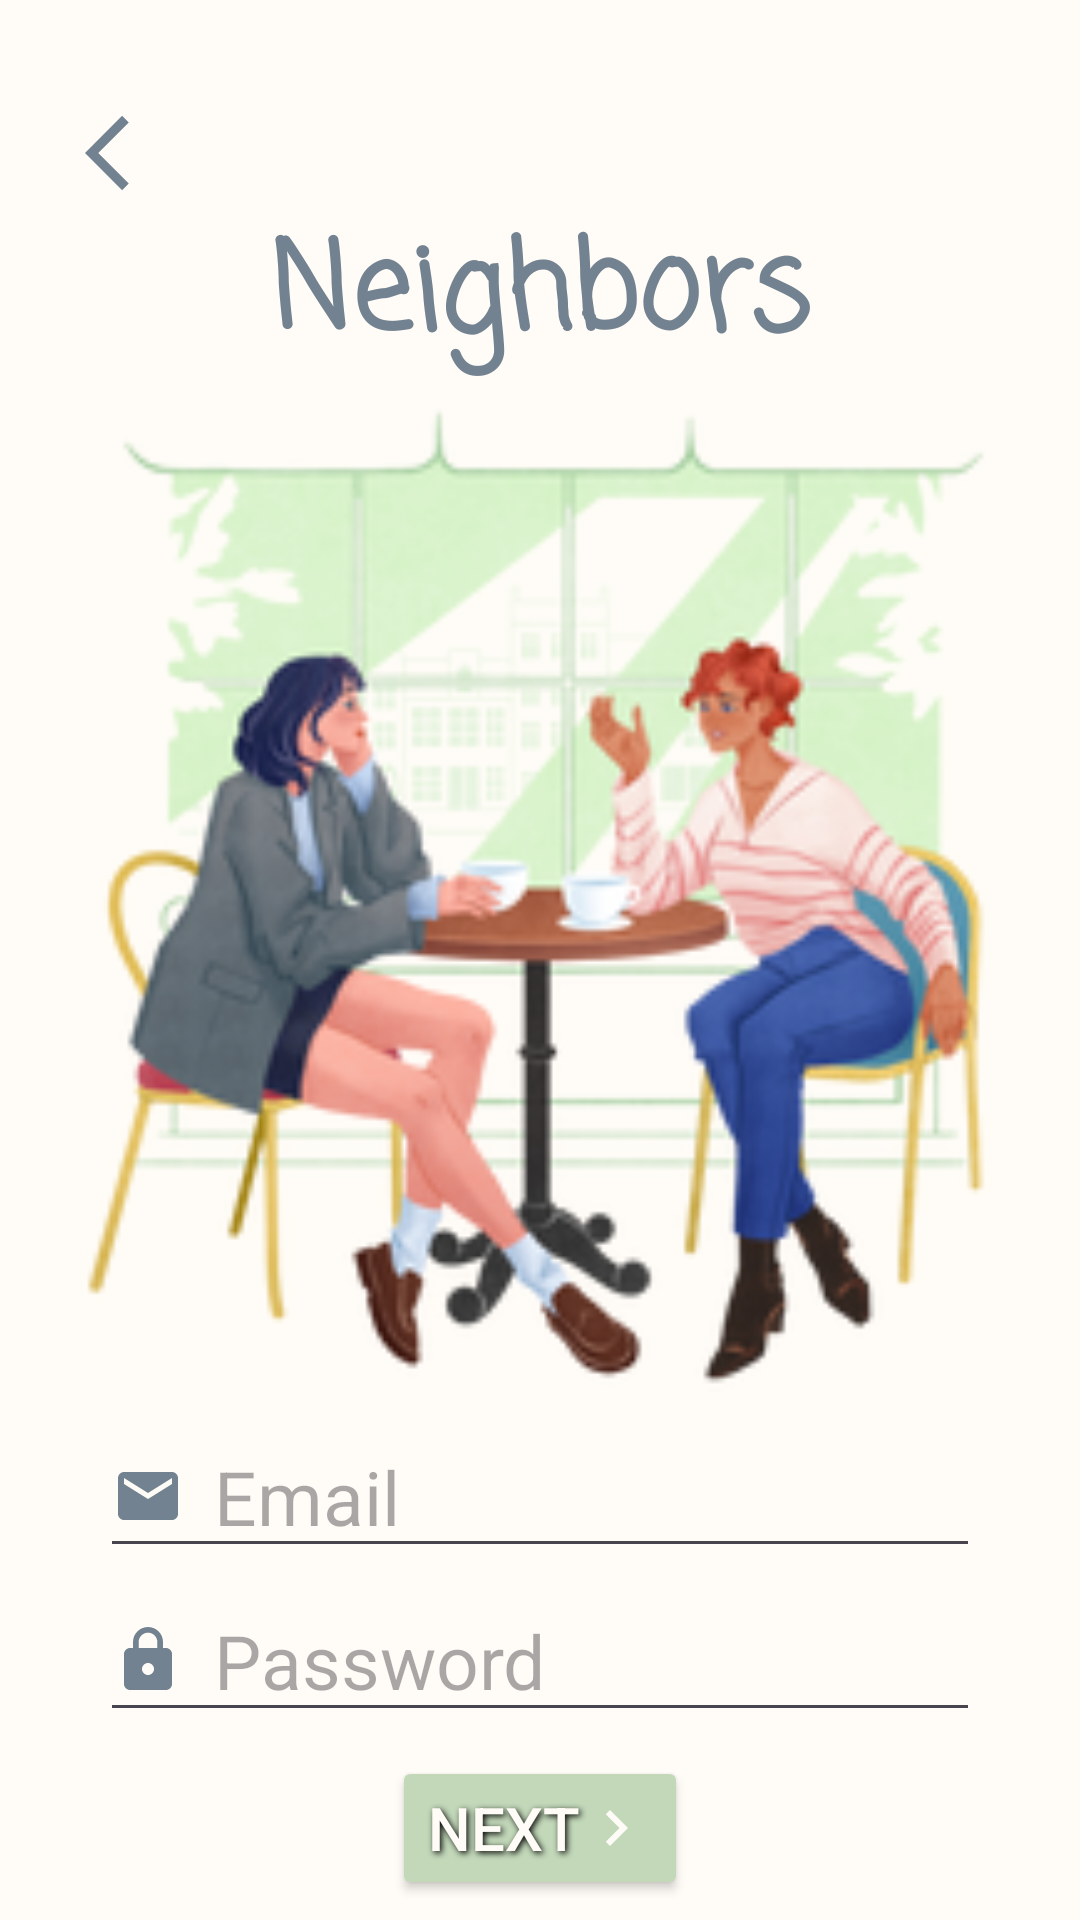

Named icons in this screenshot (1080 × 1920) and their centers, (x,y):
back: (107,153)
